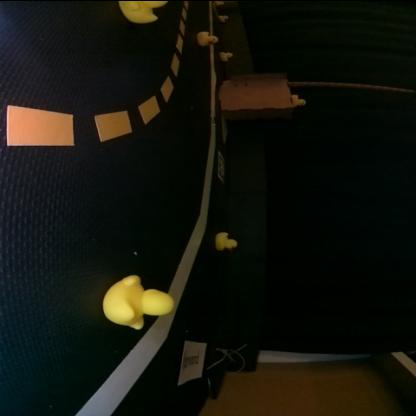Duckie: (104, 273, 172, 328), (122, 2, 172, 20), (216, 230, 238, 249), (198, 30, 219, 45), (292, 93, 308, 105), (219, 50, 234, 60), (223, 13, 230, 20)
QR code: (217, 153, 226, 177)
